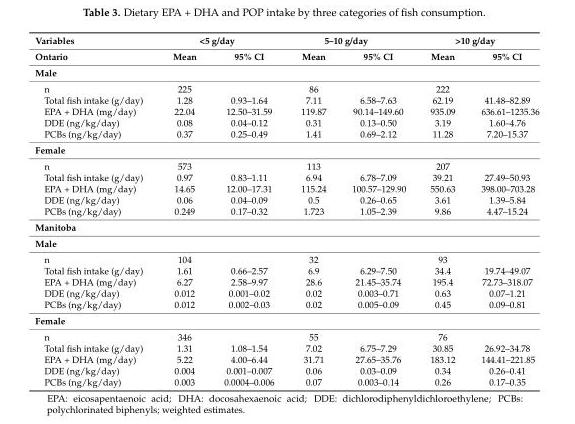table: (34, 34, 538, 386)
table column: (34, 34, 157, 386), (338, 34, 417, 386), (209, 34, 286, 386), (467, 34, 538, 386), (157, 34, 209, 386), (286, 34, 338, 386), (417, 34, 467, 386)
table column header: (34, 34, 538, 64)
table projected row header: (34, 234, 538, 251), (34, 64, 538, 80), (34, 141, 538, 157), (34, 218, 538, 234), (34, 312, 538, 328)
table row: (34, 234, 538, 251), (34, 48, 538, 64), (34, 64, 538, 80), (34, 141, 538, 157), (34, 218, 538, 234), (34, 312, 538, 328), (34, 34, 538, 48), (34, 80, 538, 94), (34, 127, 538, 141), (34, 157, 538, 171), (34, 298, 538, 312), (34, 328, 538, 342), (34, 205, 538, 218), (34, 251, 538, 264), (34, 193, 538, 205), (34, 275, 538, 287), (34, 94, 538, 105), (34, 105, 538, 116), (34, 116, 538, 127), (34, 171, 538, 182), (34, 182, 538, 193), (34, 264, 538, 275), (34, 287, 538, 298), (34, 342, 538, 353), (34, 353, 538, 364), (34, 364, 538, 375), (34, 375, 538, 386)
table spanning cell: (34, 34, 157, 64), (286, 34, 417, 48), (157, 34, 286, 48), (417, 34, 538, 48)
